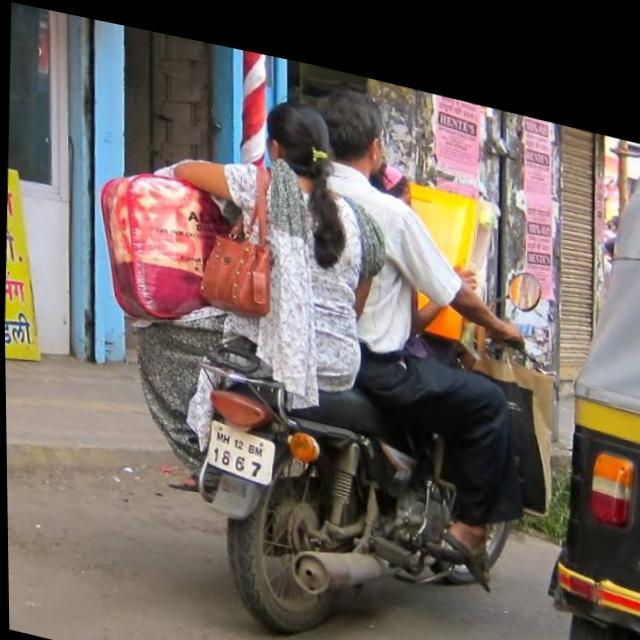Nonhelmet: (253, 90, 341, 182), (310, 80, 390, 177)
